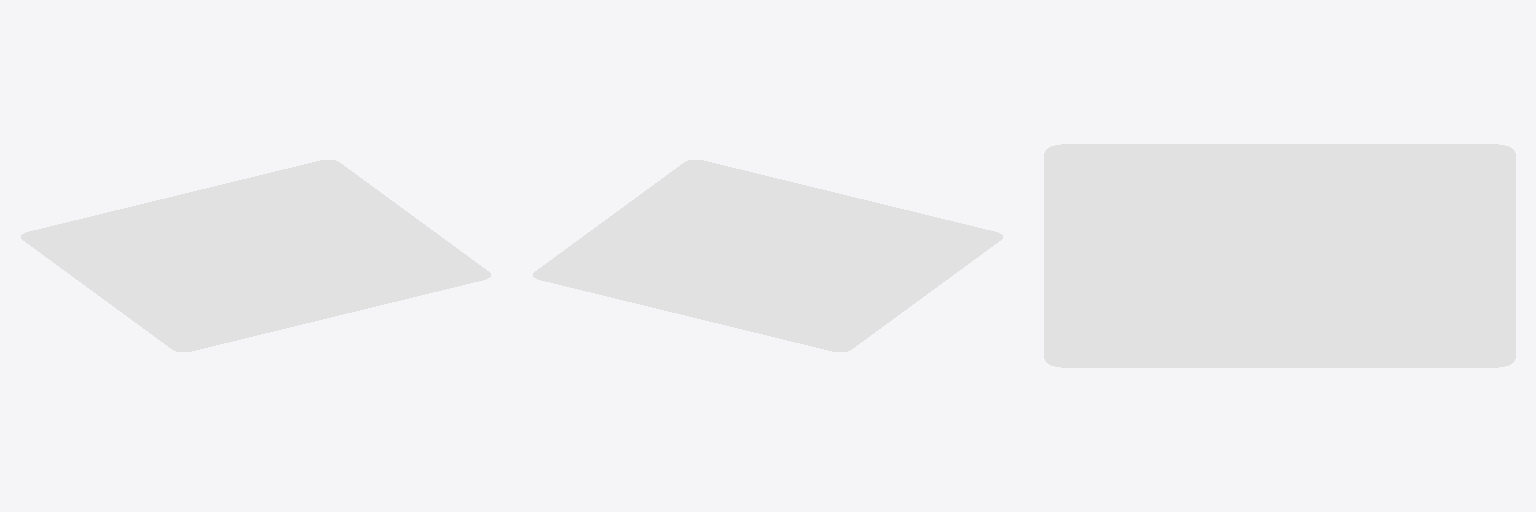
URDF robot description (cube):
<?xml version="1.0" ?>
<robot name="cube">
  <link name="baseLink">
    <contact>
      <lateral_friction value="1.0"/>
      <rolling_friction value="0.0"/>
      <contact_cfm value="0.0"/>
      <contact_erp value="1.0"/>
    </contact>
    <inertial>
      <origin rpy="0 0 0" xyz="0 0 0"/>
       <mass value="1.0"/>
       <inertia ixx="1" ixy="0" ixz="0" iyy="1" iyz="0" izz="1"/>
    </inertial>
    <visual>
      <origin rpy="0 0 0" xyz="0 0 0"/>
      <geometry>
				<mesh filename="Table.stl" scale="0.01 0.01 0.01"/>
      </geometry>
       <material name="white">
        <color rgba="1 1 1 1"/>
      </material>
    </visual>
    <collision>
      <geometry>
      <mesh filename="Table.stl" scale="0.01 0.01 0.01"/> 
      </geometry>
    </collision>
  </link>
</robot>

--- Facts derived from the render (not from the file) ---
Views: 3 orthographic renders of the robot side by side, from view 1: azimuth 30°, elevation 25°; view 2: azimuth 150°, elevation 25°; view 3: azimuth 270°, elevation 25°.
Robot: cube — 1 links, 0 joints (none); root link baseLink; default pose: all joints at 0.
Visible links, largest first — view 1: baseLink; view 2: baseLink; view 3: baseLink.
Link boxes in pixels (x1,y1,x2,y2): baseLink: (21,160,490,351); baseLink: (533,160,1002,351); baseLink: (1044,144,1515,367).
Size in the robot's own frame: 1.95 by 1.74 by 0 metres.
Meshes: 1 distinct files referenced, 1 mesh visuals loaded (1 binary STL).
